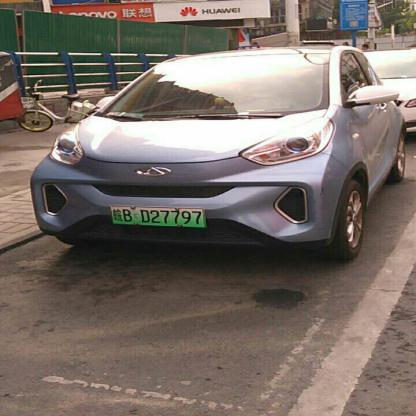lp: (110, 206, 205, 226)
